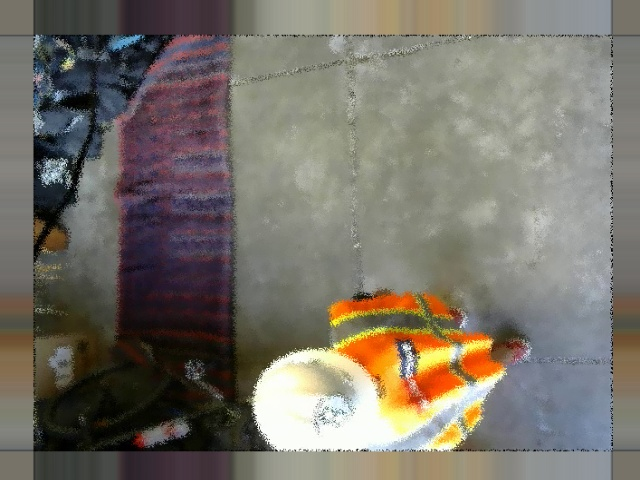eight: (312, 393, 353, 442)
